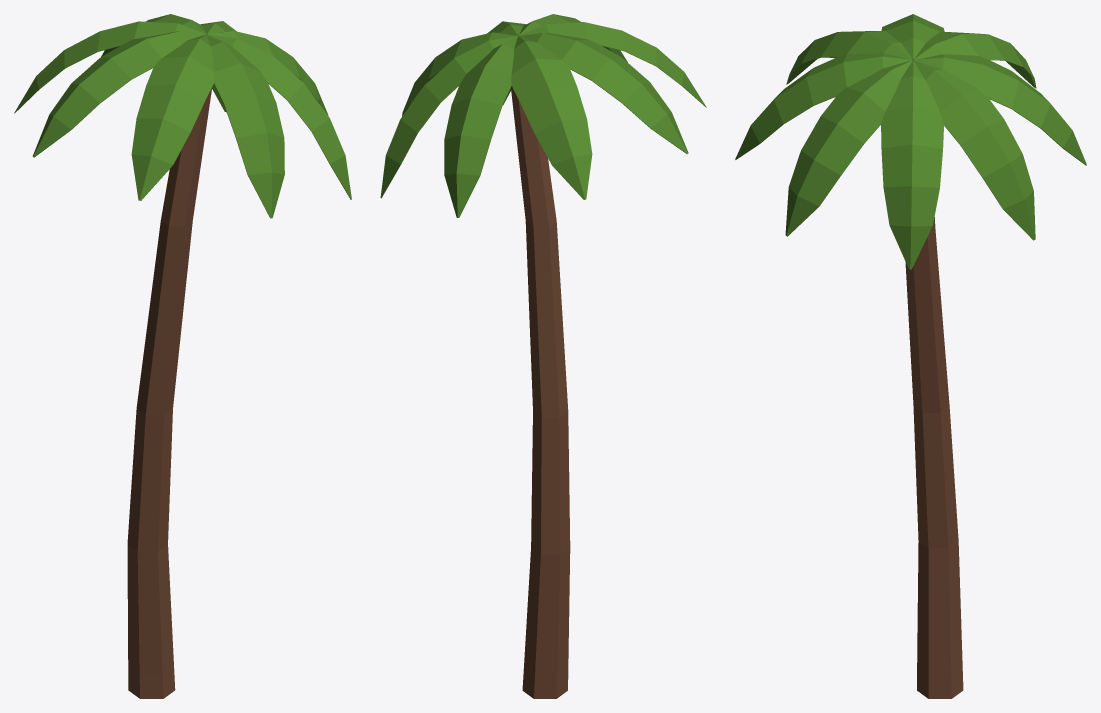
File: SPW_Natures_Tree_Palm_02.glb
3 views of the same model, side by side, from view 1: azimuth 30°, elevation 25°; view 2: azimuth 150°, elevation 25°; view 3: azimuth 270°, elevation 25° (orthographic). The views are drawn at different scales.
Parts seen in each view (by area): view 1: SPW_Natures_Tree_Palm_02; view 2: SPW_Natures_Tree_Palm_02; view 3: SPW_Natures_Tree_Palm_02.
Boxes of the visible parts, x1=… form: SPW_Natures_Tree_Palm_02: x1=14, y1=14, x2=351, y2=698; SPW_Natures_Tree_Palm_02: x1=380, y1=14, x2=706, y2=698; SPW_Natures_Tree_Palm_02: x1=735, y1=14, x2=1086, y2=698.
Size of the model in its own units: 4.13 by 8.78 by 4.23.
1 material, 1 textured.
